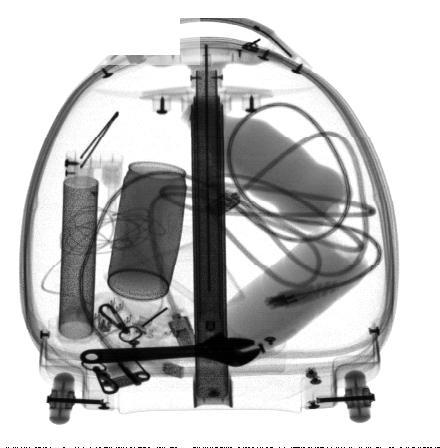Wrench: (79, 331, 261, 368)
